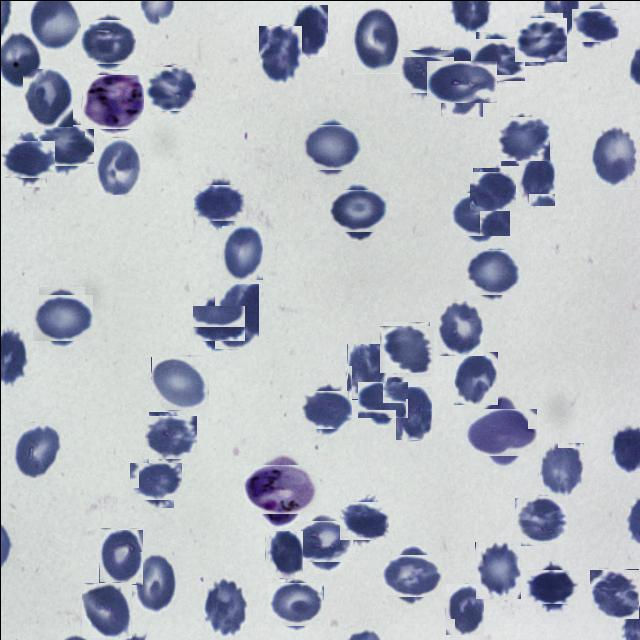red blood cell: (470, 402, 530, 462), (432, 52, 490, 109), (352, 6, 400, 73), (151, 355, 207, 411), (588, 124, 637, 188), (34, 290, 89, 344), (22, 68, 72, 126), (214, 283, 258, 348), (10, 422, 60, 478), (81, 580, 131, 636), (203, 576, 247, 638), (305, 121, 357, 173), (453, 188, 505, 240), (474, 541, 520, 599), (384, 549, 436, 600), (135, 551, 177, 613), (333, 185, 384, 236), (380, 323, 431, 374), (468, 246, 518, 298), (436, 300, 483, 355), (516, 493, 566, 544), (538, 442, 583, 498), (98, 527, 142, 584), (96, 137, 140, 194), (298, 516, 348, 566), (270, 579, 320, 629), (40, 120, 90, 170), (588, 568, 638, 618), (258, 25, 301, 82), (82, 17, 132, 66), (401, 46, 450, 95), (472, 34, 521, 82), (516, 14, 564, 63), (453, 351, 497, 404), (220, 225, 262, 280), (146, 64, 194, 112), (146, 413, 194, 461), (498, 114, 546, 162), (346, 343, 386, 399), (4, 136, 50, 182), (394, 386, 432, 440), (444, 583, 483, 635), (132, 458, 177, 503), (304, 386, 348, 431), (517, 153, 554, 206), (530, 564, 574, 608), (198, 180, 242, 224), (341, 498, 385, 542), (360, 377, 404, 421), (196, 300, 240, 344), (291, 4, 327, 56), (470, 169, 513, 212), (264, 530, 302, 578), (574, 4, 614, 44)
trophozoite: (249, 458, 311, 520), (81, 71, 140, 130)
